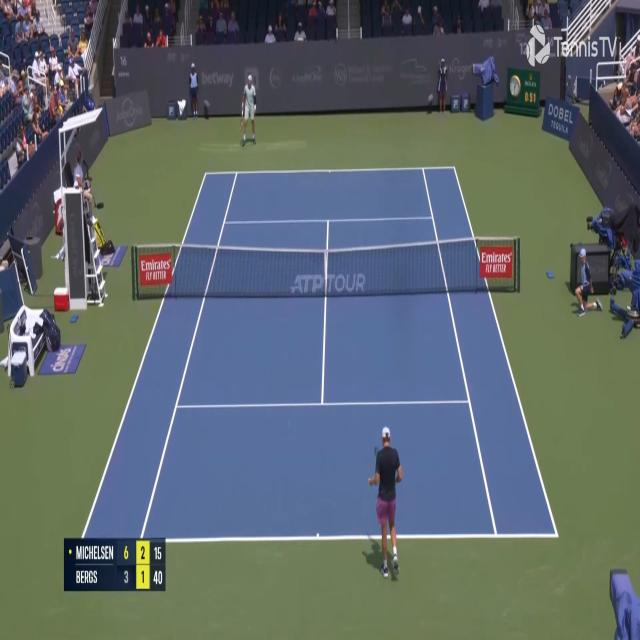tennis-player: (364, 424, 404, 582), (238, 72, 258, 147)
